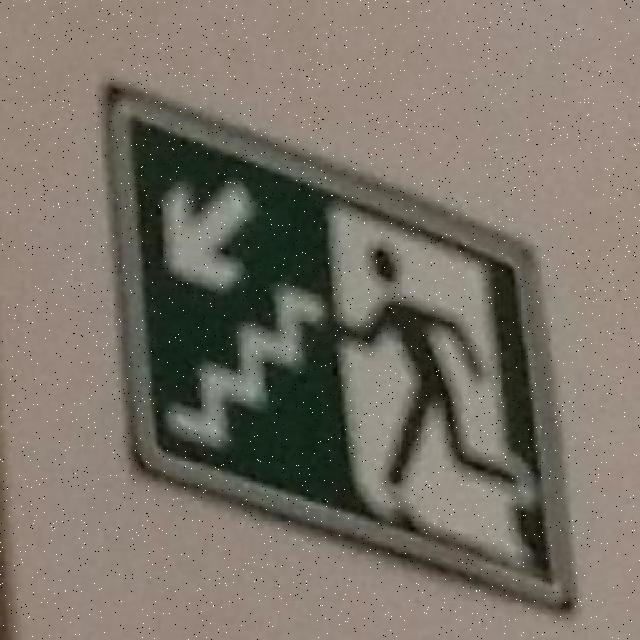emergency_exit: (103, 81, 579, 610)
